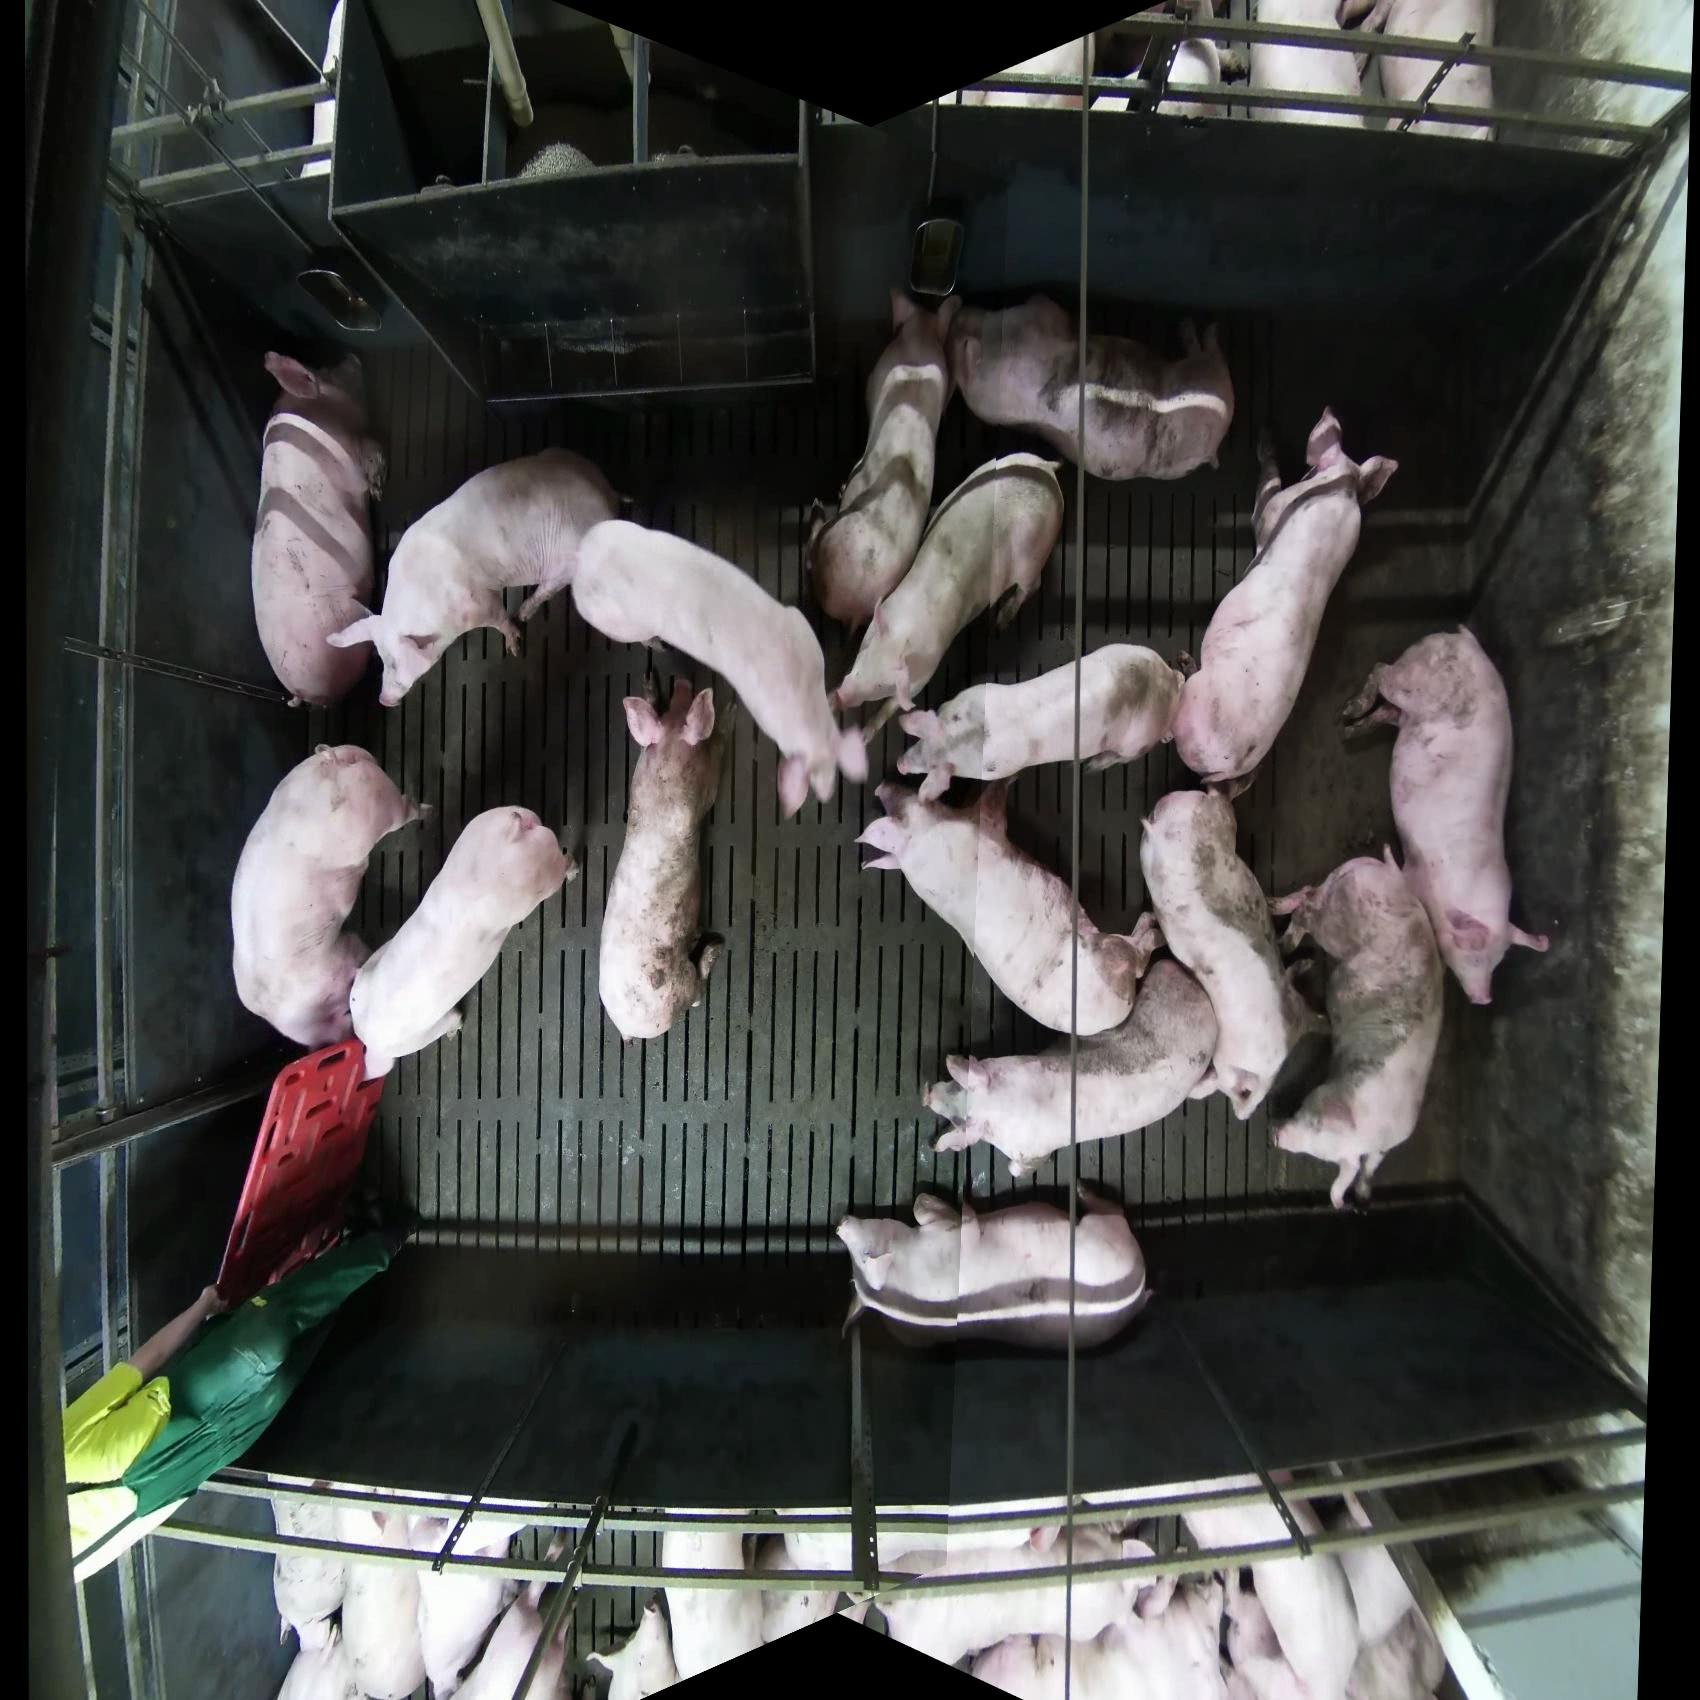pig: (1172, 405, 1399, 799), (570, 518, 864, 821), (853, 770, 1164, 1040), (1335, 622, 1551, 1008), (327, 445, 630, 710), (832, 451, 1066, 744), (925, 954, 1221, 1181), (1267, 844, 1447, 1214), (269, 1482, 572, 1700), (346, 804, 579, 1083), (1138, 787, 1326, 1123), (230, 743, 435, 1050), (947, 291, 1236, 483), (835, 1178, 1153, 1352), (806, 283, 961, 638), (249, 347, 388, 711), (597, 677, 726, 1043), (896, 642, 1188, 802), (1171, 1467, 1365, 1695), (867, 1521, 1159, 1670), (658, 1524, 839, 1688), (1339, 1, 1498, 142), (1249, 407, 1389, 555), (1049, 1463, 1294, 1549), (1243, 1, 1378, 128), (846, 1196, 971, 1320), (862, 289, 949, 434), (965, 23, 1099, 111), (896, 1518, 1067, 1582), (1144, 8, 1227, 117), (1023, 1497, 1147, 1563), (854, 1508, 973, 1570), (660, 1516, 750, 1579), (773, 1509, 854, 1573), (518, 142, 596, 179), (750, 1526, 800, 1584)
worker: (61, 1224, 400, 1584)
